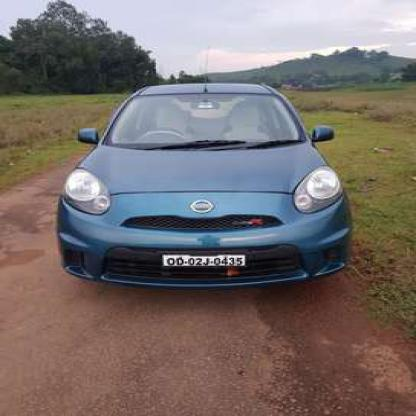license_plate: (159, 252, 243, 265)
